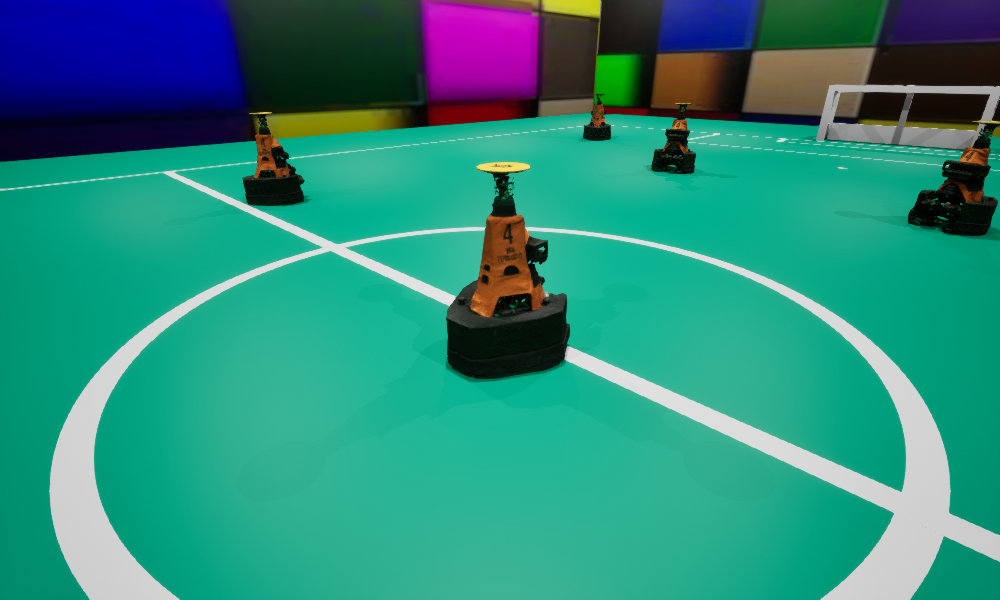0 orange robot TechUnited: (446, 162, 569, 378), (908, 121, 999, 235), (242, 112, 304, 205), (651, 103, 695, 172), (583, 94, 610, 140)
